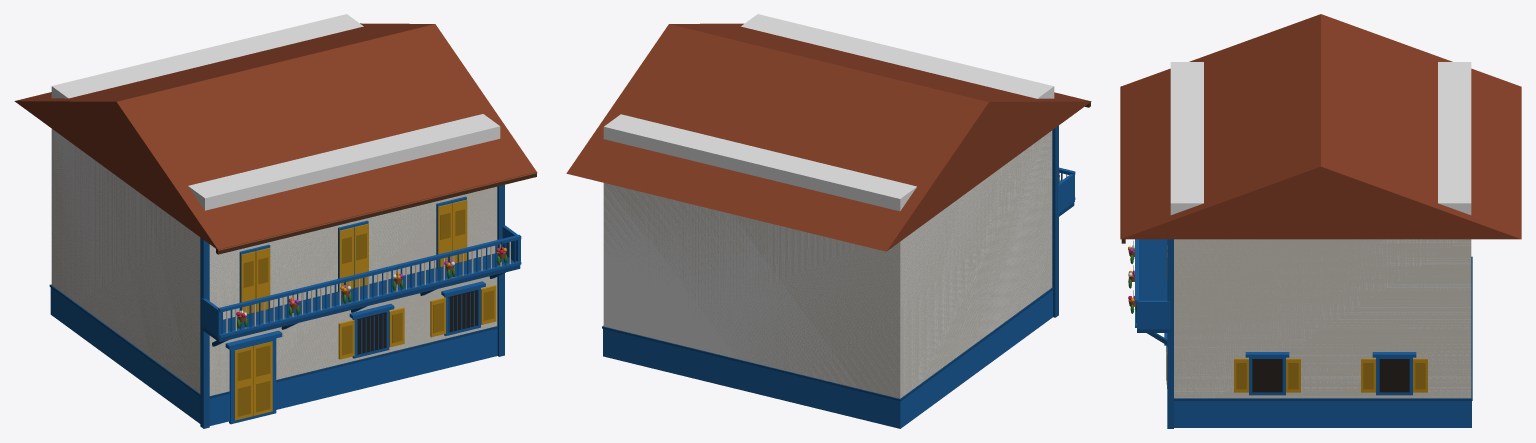
Rendered from casa_cafetera_ancha_azul.glb.
3 views of the same model, side by side, from view 1: azimuth 30°, elevation 25°; view 2: azimuth 150°, elevation 25°; view 3: azimuth 270°, elevation 25° (orthographic). The views are drawn at different scales.
Parts seen in each view (by area): view 1: casa_cafetera_ancha_azul_Malla, COL_0; view 2: casa_cafetera_ancha_azul_Malla, COL_0; view 3: casa_cafetera_ancha_azul_Malla, COL_0.
Part boxes in pixels (x1=…): casa_cafetera_ancha_azul_Malla: x1=14, y1=23, x2=537, y2=428; COL_0: x1=51, y1=14, x2=500, y2=395; casa_cafetera_ancha_azul_Malla: x1=566, y1=23, x2=1091, y2=428; COL_0: x1=603, y1=14, x2=1054, y2=397; casa_cafetera_ancha_azul_Malla: x1=1120, y1=14, x2=1521, y2=428; COL_0: x1=1170, y1=62, x2=1471, y2=397.
Size of the model in its own units: 10.8 by 8.88 by 12.
